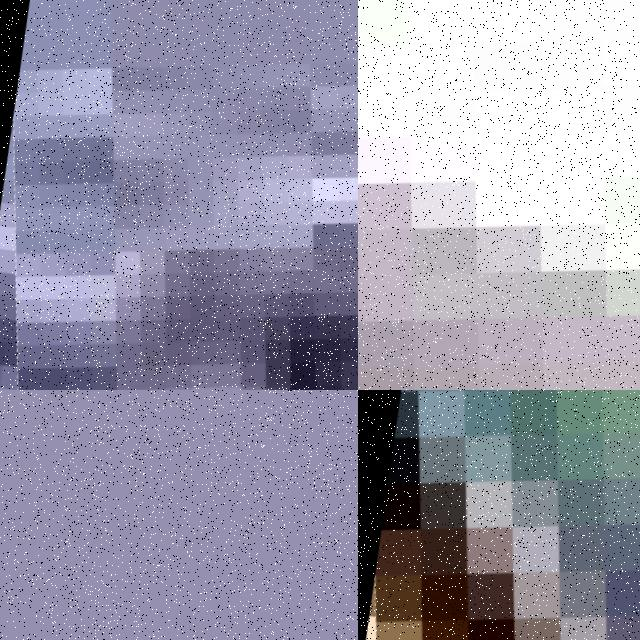0: (0, 0, 358, 390)
drone: (358, 0, 640, 390), (358, 390, 640, 640)
